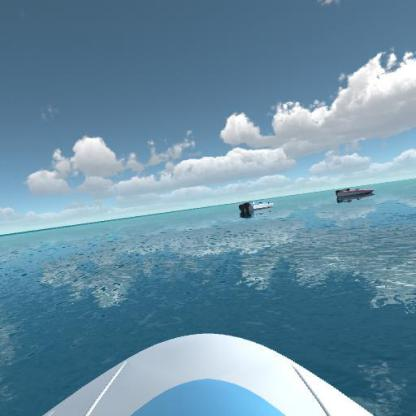usv1: (235, 194, 278, 218)
usv3: (332, 182, 377, 203)
